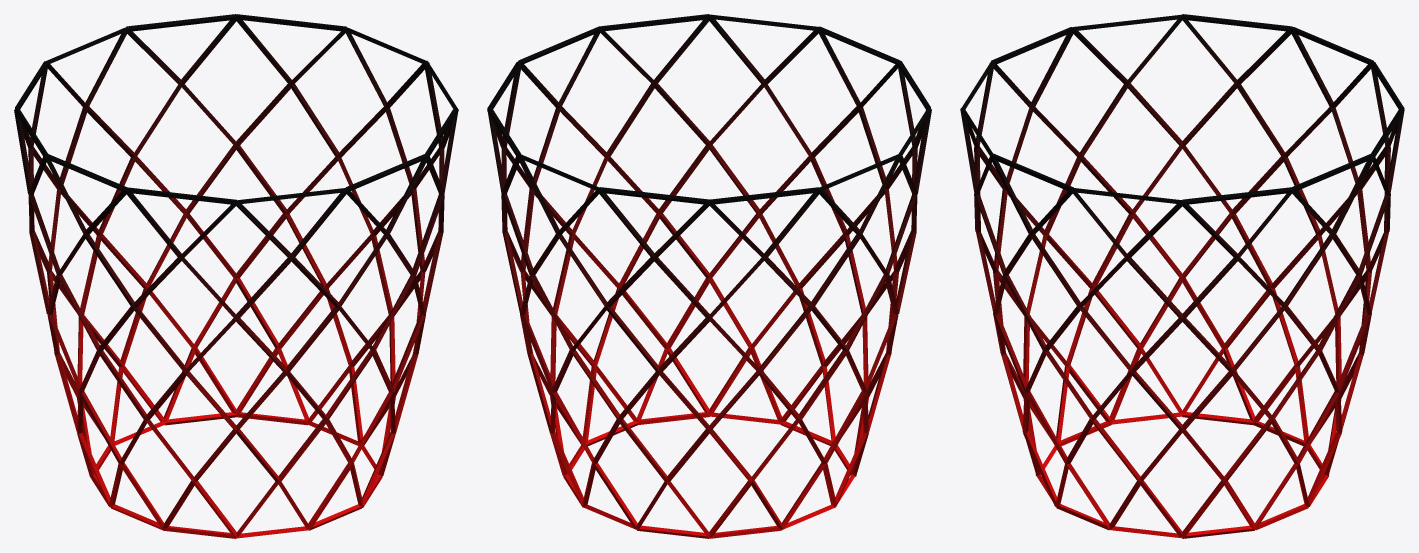
The model's file is SM_BasketballNet.fbx.
3 renders of one model, left to right at view 1: azimuth 30°, elevation 25°; view 2: azimuth 150°, elevation 25°; view 3: azimuth 270°, elevation 25°, orthographic.
Parts seen in each view (by area): view 1: SM_BasketballNet; view 2: SM_BasketballNet; view 3: SM_BasketballNet.
Part boxes in pixels (x1,y1,x2,y2): SM_BasketballNet: (14, 14, 458, 538); SM_BasketballNet: (487, 14, 931, 538); SM_BasketballNet: (960, 14, 1404, 538).
Size of the model in its own units: 46.28 by 42.58 by 46.28.
